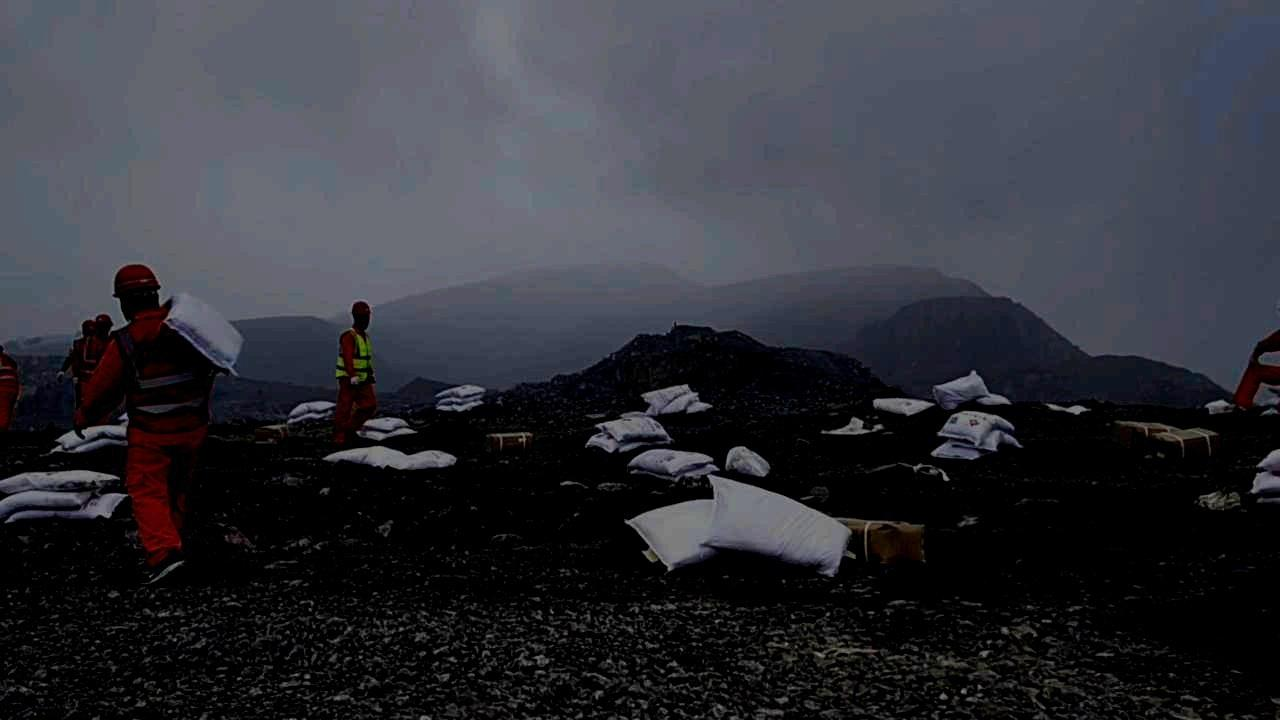helmet: (111, 263, 161, 320), (350, 300, 371, 330), (94, 314, 114, 337)
